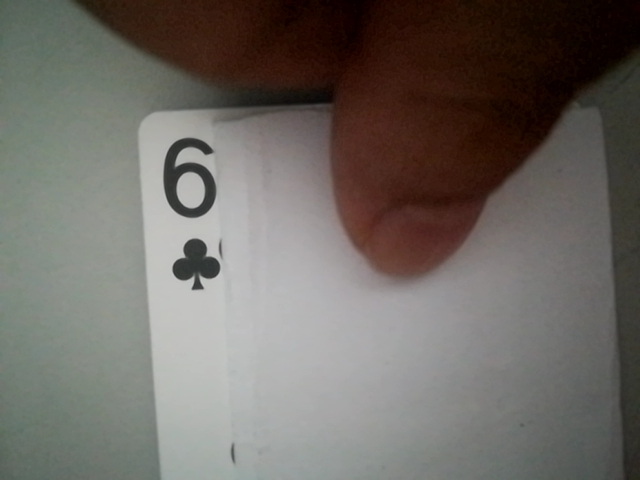mh 6: (150, 128, 238, 295)
